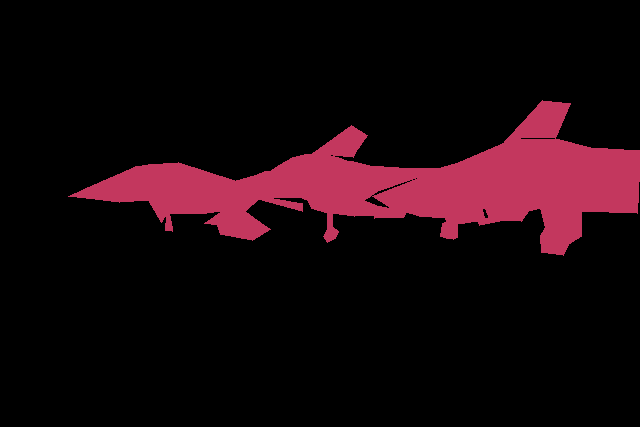Airplane: (191, 100, 571, 242), (68, 125, 368, 240), (369, 138, 640, 255)
